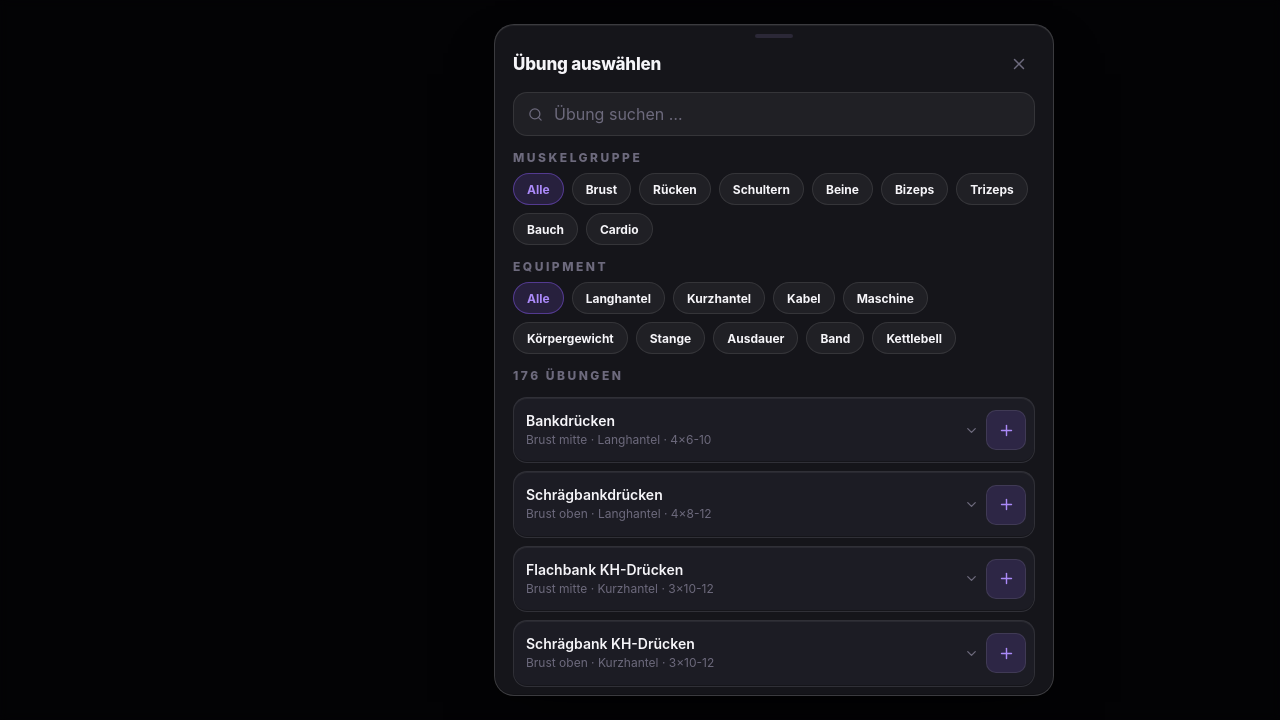
it: ExercisePickerSheet renders and works › filters down to a muscle group when a chip is pressed
Click the button "Bauch". click: [545, 229]
box: [513,213,578,245]
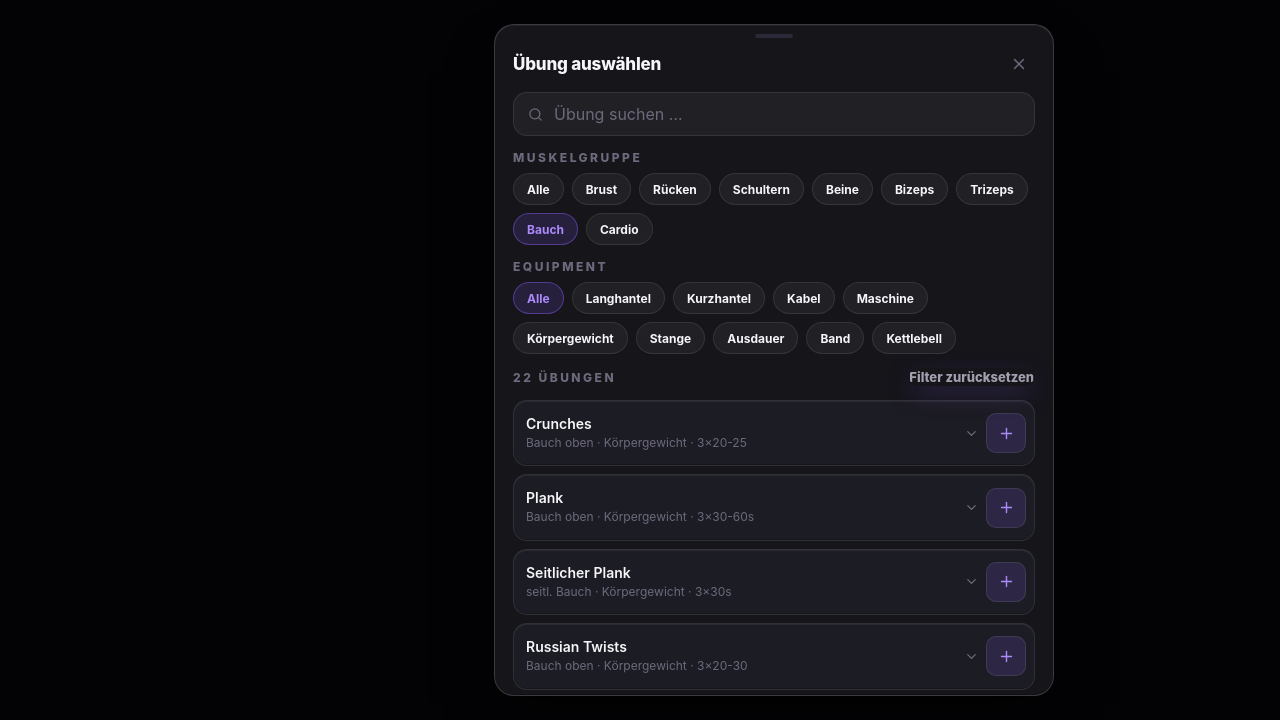
Expected: the button "Bankdrücken" is gone
Expected: the text "Plank" is shown, [526,489,563,506]
